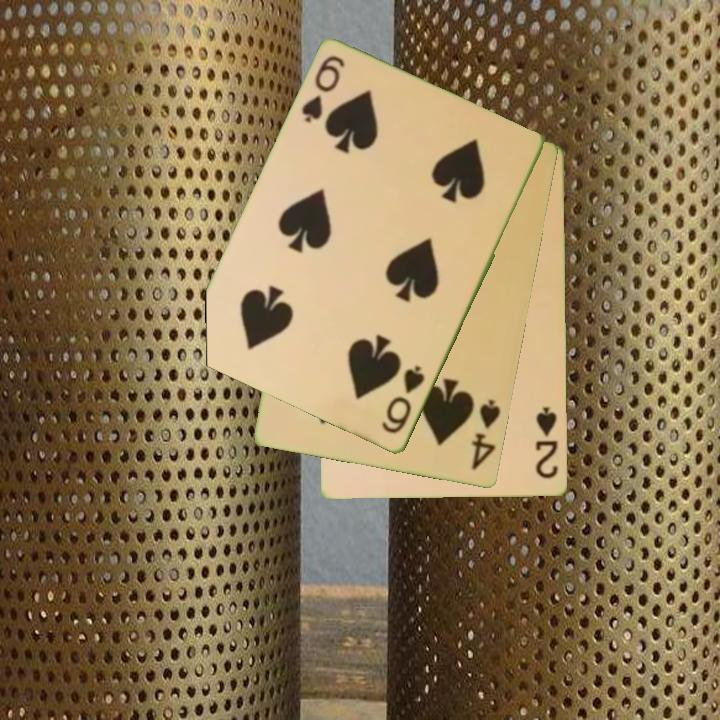2s: (532, 403, 562, 482)
4s: (468, 396, 504, 474)
6s: (378, 362, 428, 437), (298, 52, 348, 127)
